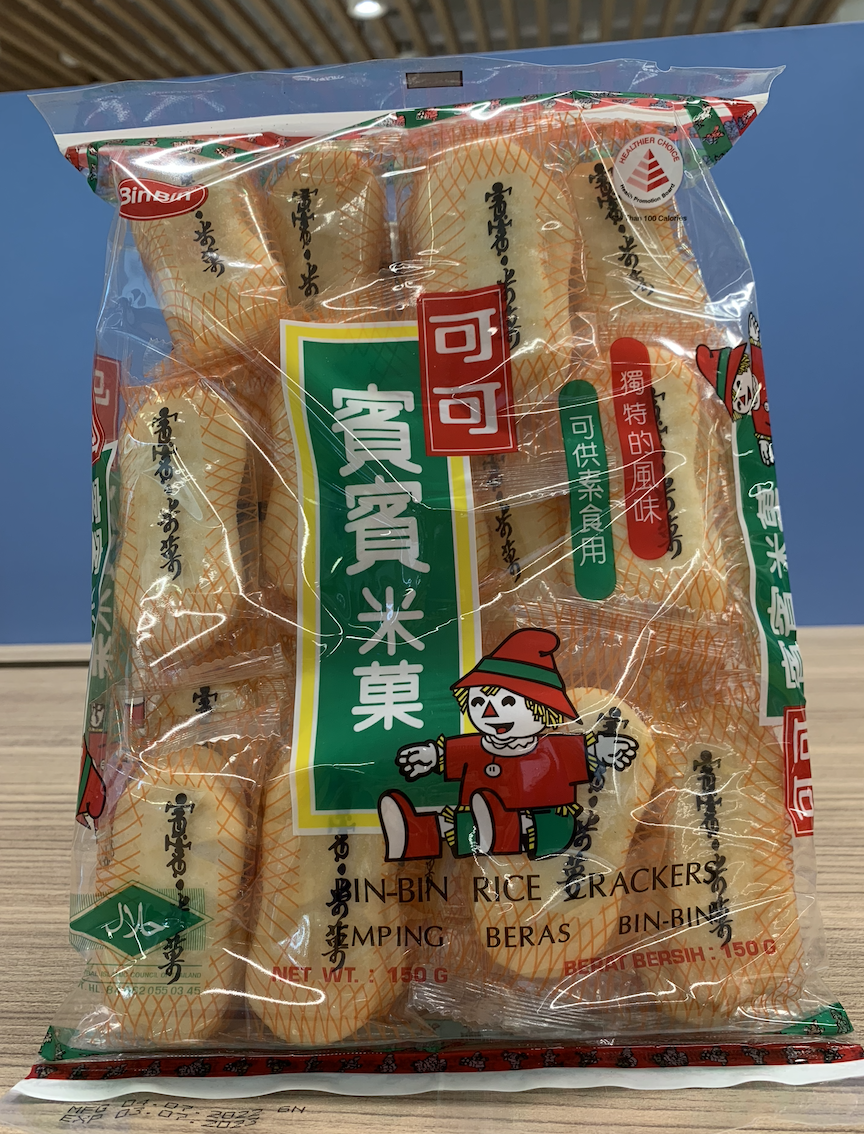crackers_150g: (111, 122, 786, 1052)
